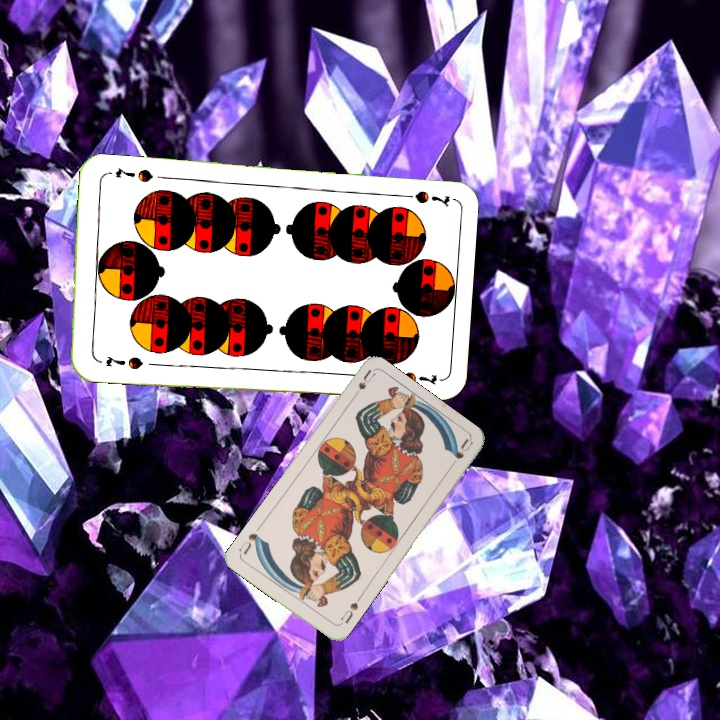S7: (393, 186, 453, 209), (101, 351, 146, 372)
SU: (347, 366, 377, 404), (335, 593, 364, 628)
